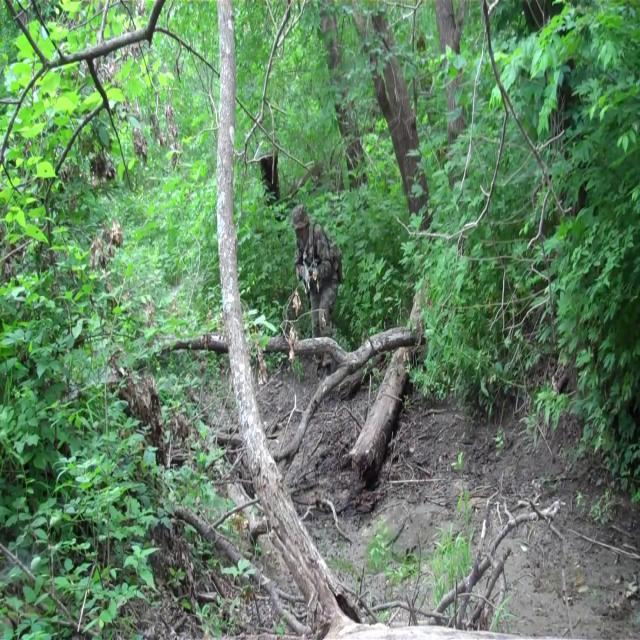MIL_Pax: (282, 206, 342, 356)
